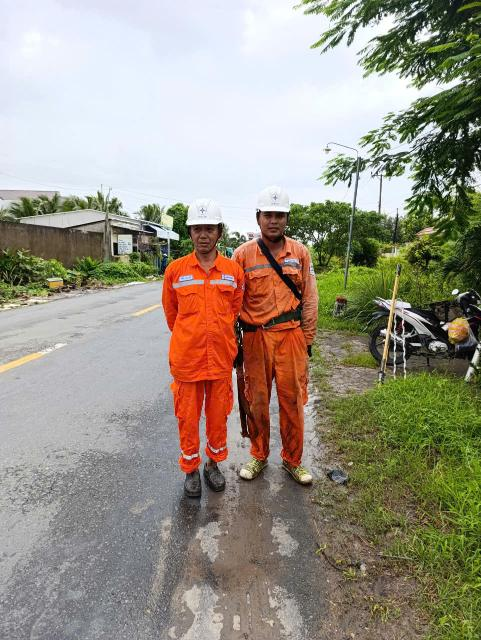gloves: (226, 344, 257, 375), (302, 340, 325, 362)
harness: (238, 297, 318, 336)
helmet: (172, 193, 237, 232), (247, 185, 303, 221)
shoes: (281, 449, 331, 498), (176, 469, 211, 514), (204, 454, 233, 503), (237, 452, 276, 484)
